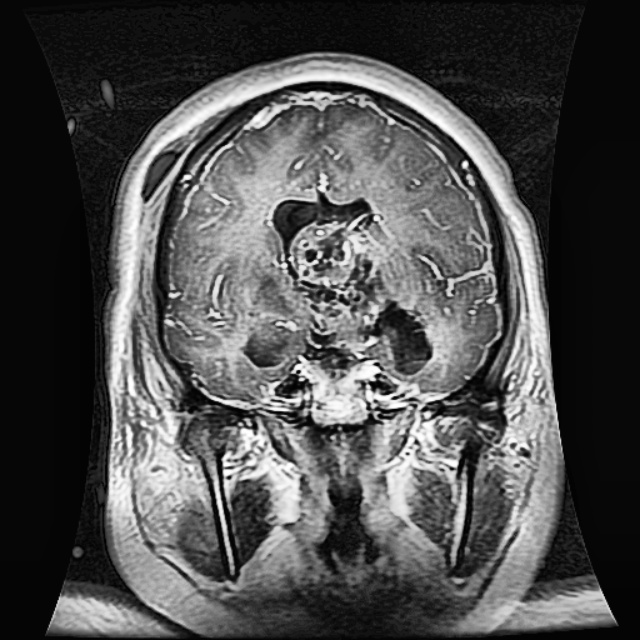Meningioma: (269, 187, 433, 377)
